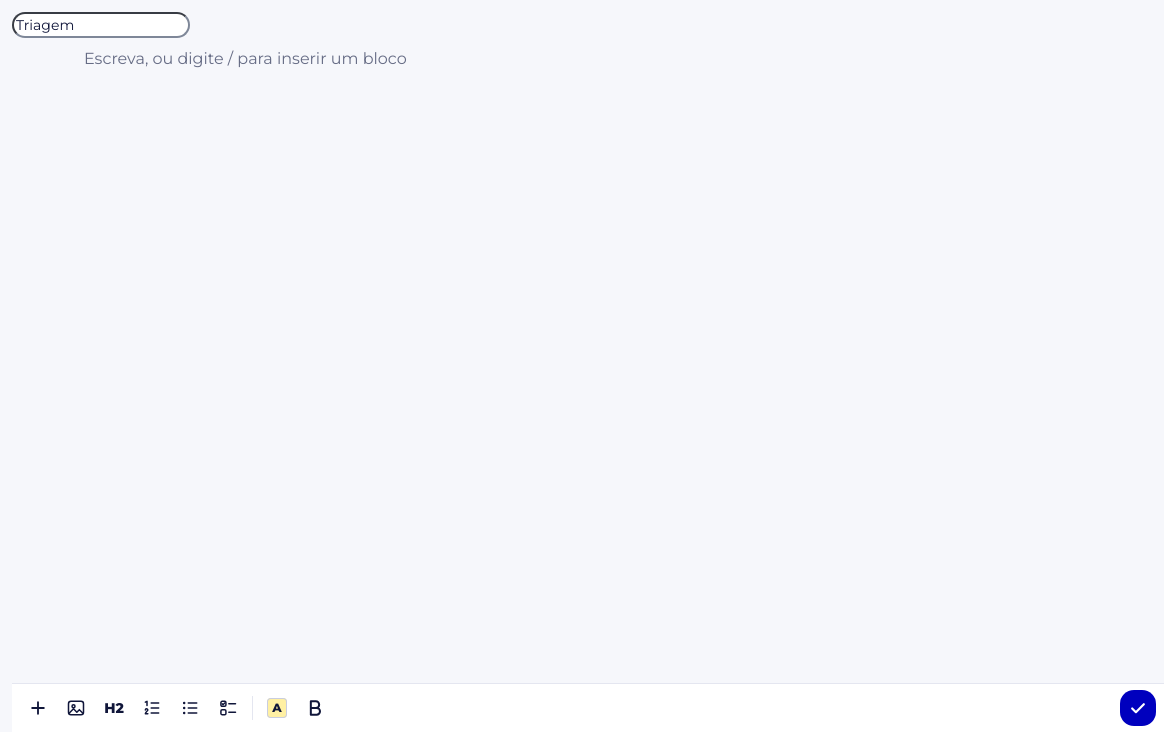
Scenario: Inserir bloco abre o menu "/" no cursor
The width and height of the screenshot is (1164, 732).
Click the button named "Inserir bloco" at coordinates (38, 708), box [20,690,56,726]
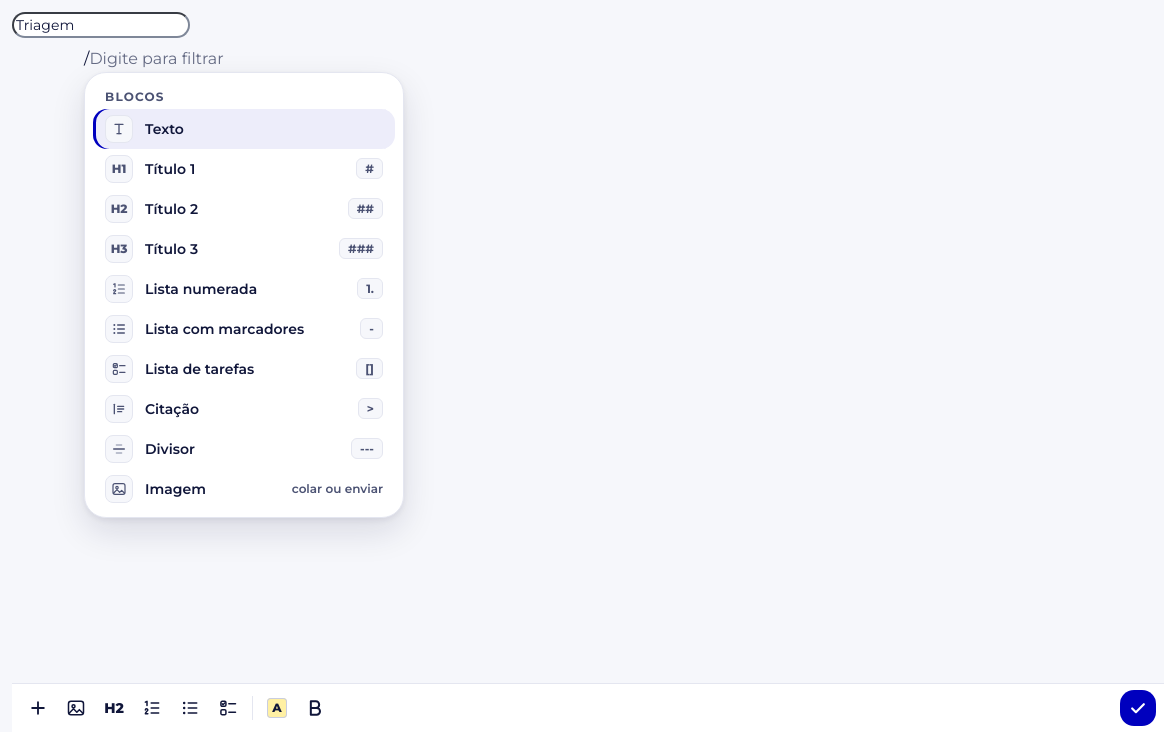
Result: the option "Texto" is shown at [93,109,395,149]
